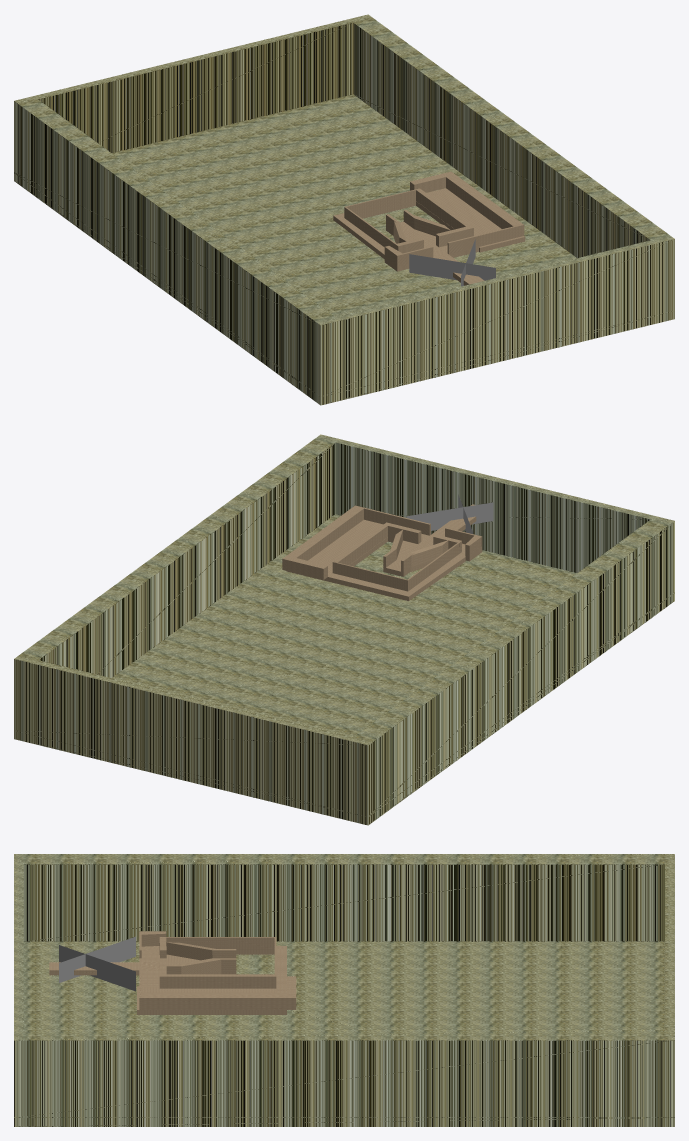
The model's file is Stage4.fbx.
The picture shows the model from 3 angles, top to bottom: view 1: azimuth 30°, elevation 25°; view 2: azimuth 150°, elevation 25°; view 3: azimuth 270°, elevation 25°; orthographic projection. The views are drawn at different scales.
Parts seen in each view (by area): view 1: Box001, Box007, Plane002; view 2: Box001, Box007, Plane001; view 3: Box001, Box007, Plane001, Plane002.
Boxes of the visible parts, x1,y1,x2,y2 form: Box001: [14, 14, 674, 405]; Box007: [333, 171, 525, 285]; Plane002: [409, 254, 495, 280]; Box001: [14, 434, 674, 825]; Box007: [282, 504, 482, 601]; Plane001: [406, 502, 493, 530]; Box001: [14, 854, 674, 1126]; Box007: [49, 931, 296, 1014]; Plane001: [59, 945, 135, 991]; Plane002: [59, 936, 135, 982].
Bounding box in the file's own units: 19923 × 29879 × 4311.
